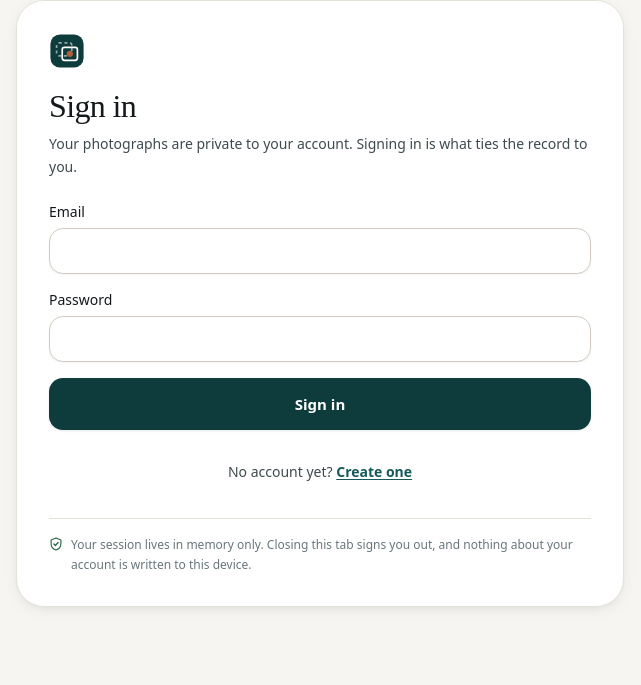
Test: SignIn — signing in › re-enables the button after a failure so the tenant can try again
This screenshot has width=641, height=685.
Type "tenant@example.com" into the field with id "auth-email" at (320, 251), box 49,228 -> 591,274
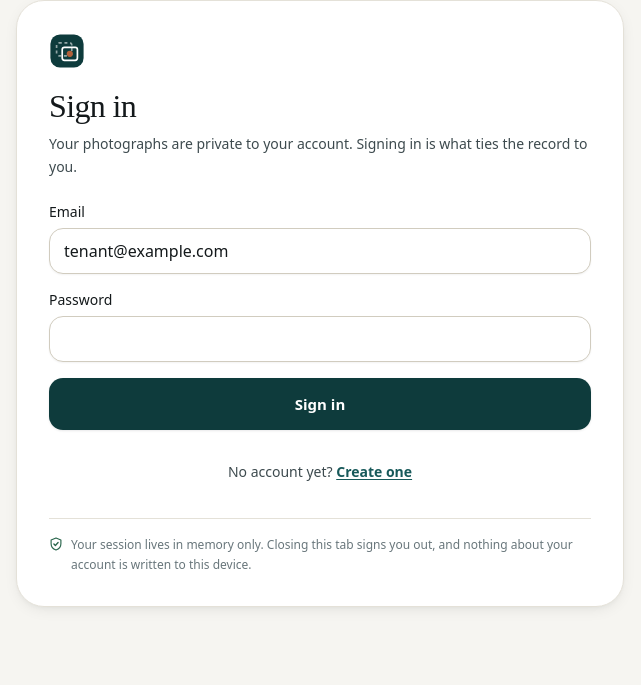
Type "wrong" into the password field with id "auth-password" at (320, 339), box 49,316 -> 591,362
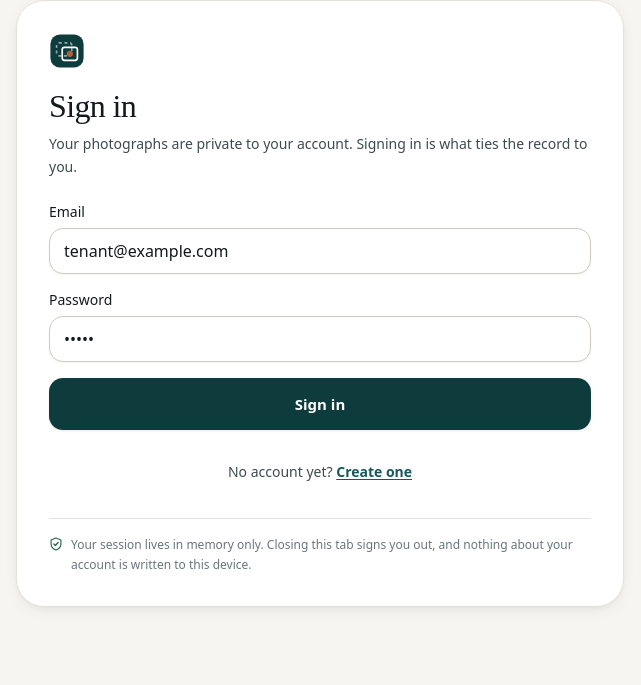
Click the button with test id "auth-submit" at (320, 404), box 49,378 -> 591,430
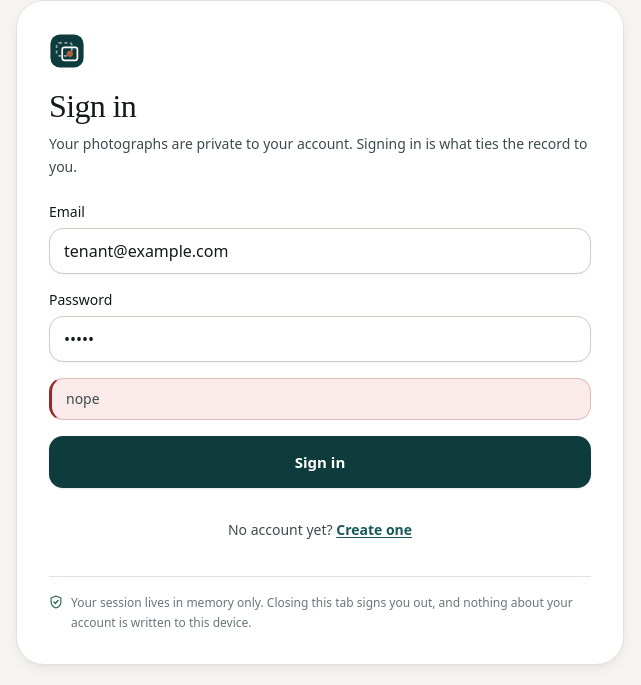
Expected: the button with test id "auth-submit" is enabled, 49,436 -> 591,488
Result: the message "nope" is shown at 49,378 -> 591,420
